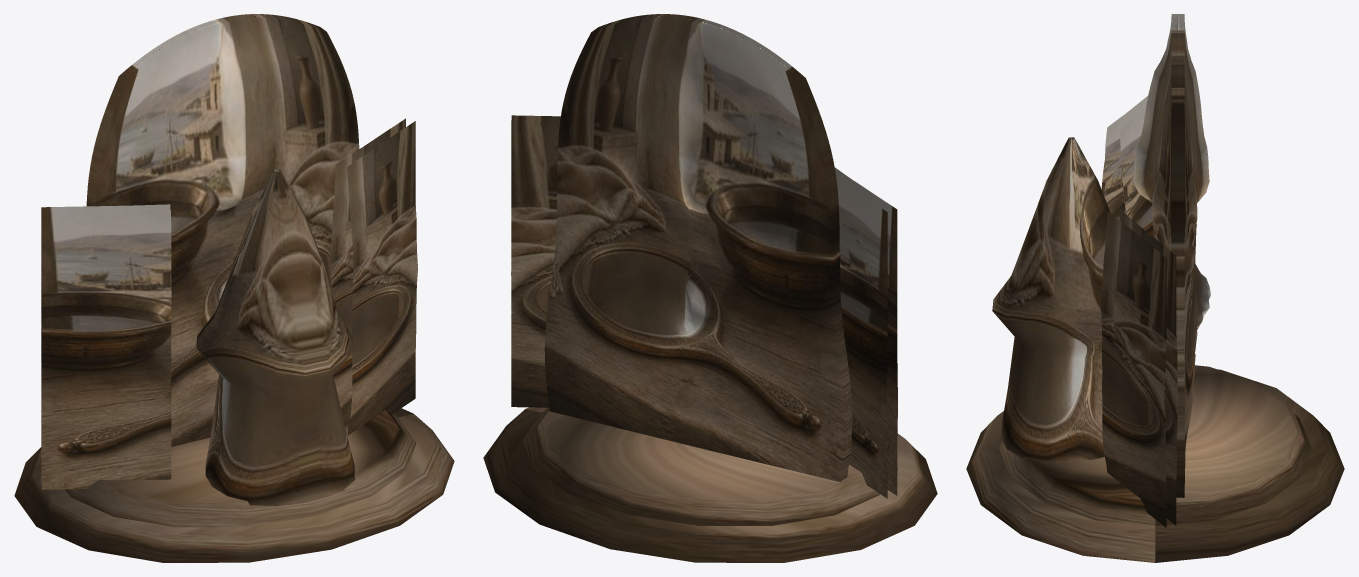
Rendered from doers-of-the-word-5.glb.
3 views of the same model, side by side, from view 1: azimuth 30°, elevation 25°; view 2: azimuth 150°, elevation 25°; view 3: azimuth 270°, elevation 25° (orthographic). The views are drawn at different scales.
Parts seen in each view (by area): view 1: PaintingSculptureMonument; view 2: PaintingSculptureMonument; view 3: PaintingSculptureMonument.
Part boxes in pixels (x1,y1,x2,y2): PaintingSculptureMonument: (14, 14, 454, 562); PaintingSculptureMonument: (483, 14, 937, 562); PaintingSculptureMonument: (966, 14, 1344, 562).
Bounding box in the file's own units: 2.76 × 2.99 × 2.35.
1 material, 1 textured.
